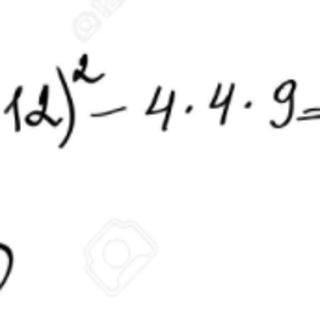.: (183, 100, 195, 117), (243, 97, 254, 108)
1: (4, 85, 28, 134)
2: (27, 84, 62, 126), (74, 51, 106, 86)
4: (144, 85, 174, 132), (210, 81, 236, 125)
9: (267, 78, 298, 130)
